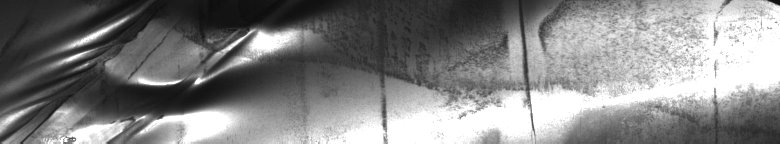ke: (4, 8, 560, 136)
